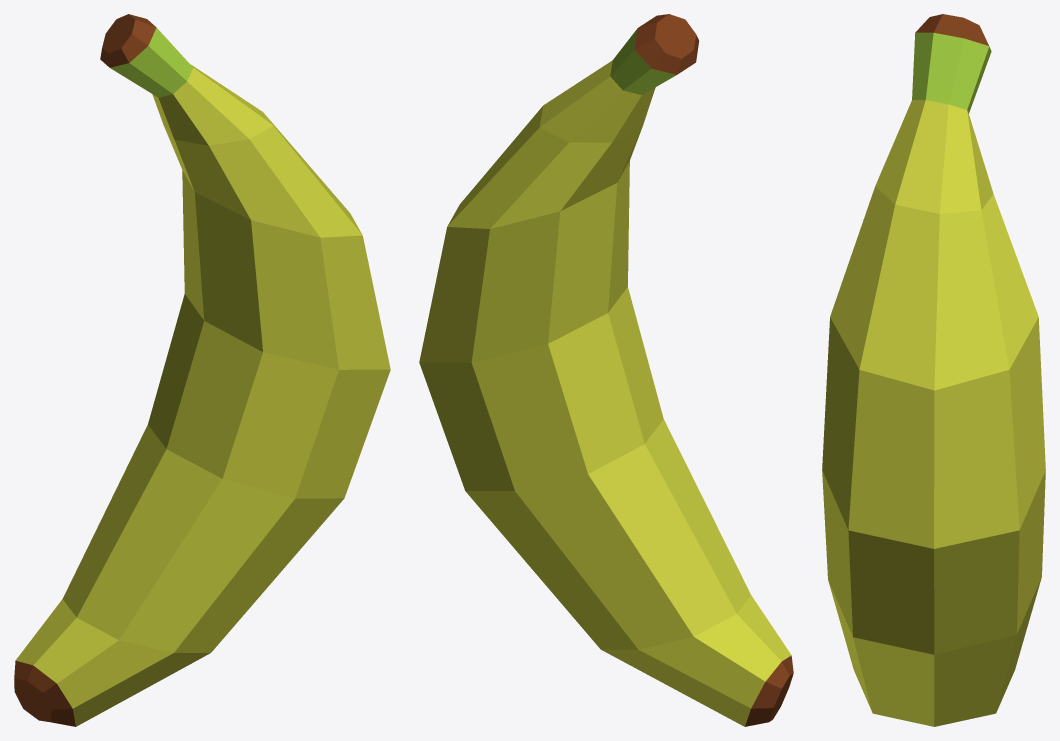
File: Banana.fbx
The picture shows the model from 3 angles, left to right: view 1: azimuth 30°, elevation 25°; view 2: azimuth 150°, elevation 25°; view 3: azimuth 270°, elevation 25°; orthographic projection. The views are drawn at different scales.
Visible parts, largest first — view 1: banana_01; view 2: banana_01; view 3: banana_01.
Part boxes in pixels (<box>): banana_01: <box>14,14,390,726</box>; banana_01: <box>419,14,793,726</box>; banana_01: <box>822,14,1045,726</box>.
Bounding box in the file's own units: 9.78 × 18.31 × 5.
